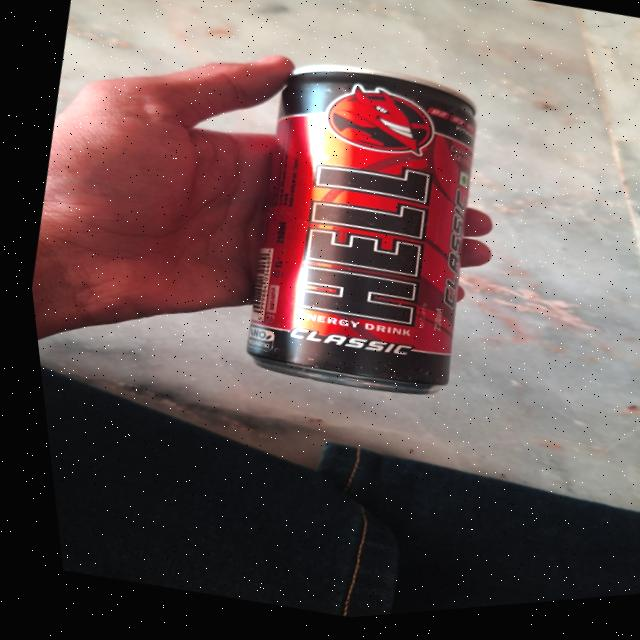Hell Classic: (198, 40, 508, 427)
